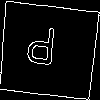P: (24, 25, 58, 74)
